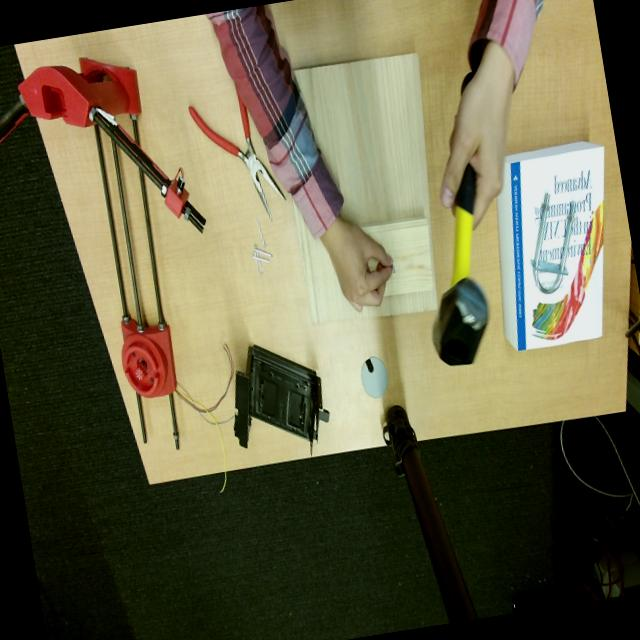hammer: (432, 164, 489, 366)
pliers: (189, 96, 284, 220)
